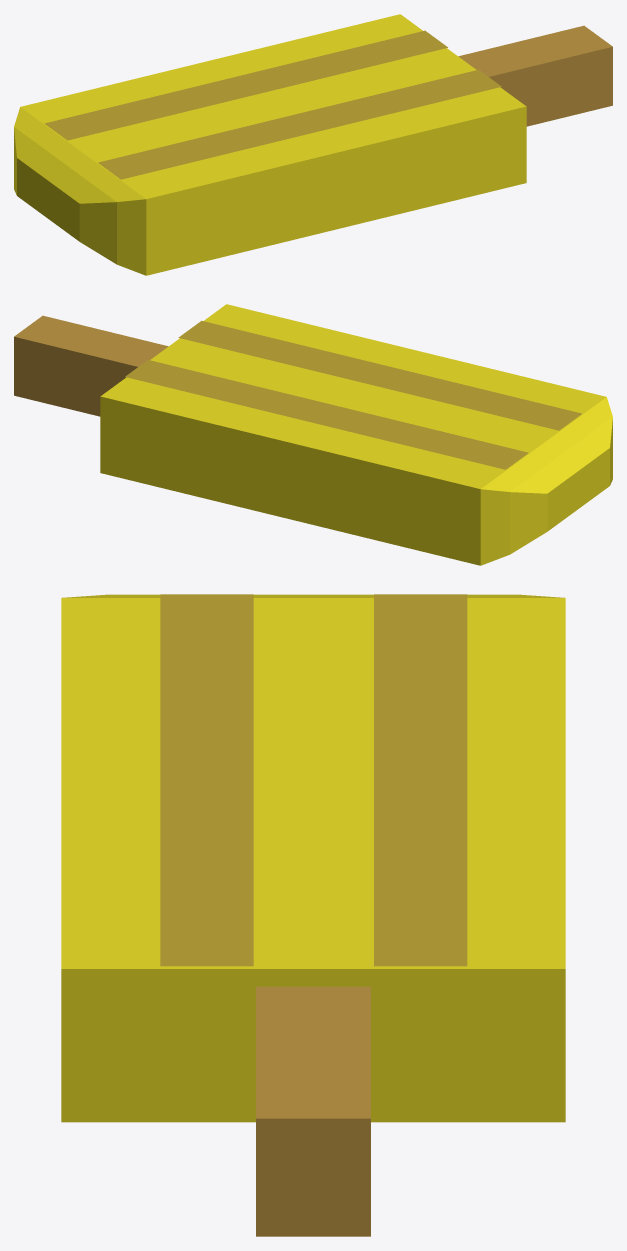
The model's file is Paleta_Hielo.fbx.
The picture shows the model from 3 angles, top to bottom: view 1: azimuth 30°, elevation 25°; view 2: azimuth 150°, elevation 25°; view 3: azimuth 270°, elevation 25°; orthographic projection. The views are drawn at different scales.
Visible parts, largest first — view 1: Cube, Cube.001, Plane.001, Plane.002; view 2: Cube, Cube.001, Plane.002, Plane.001; view 3: Cube, Plane.002, Plane.001, Cube.001.
Boxes of the visible parts, x1,y1,x2,y2 form: Cube: [14, 14, 526, 275]; Cube.001: [458, 25, 612, 126]; Plane.001: [44, 30, 447, 140]; Plane.002: [98, 69, 501, 179]; Cube: [100, 304, 612, 565]; Cube.001: [14, 315, 168, 416]; Plane.002: [178, 320, 581, 430]; Plane.001: [125, 360, 528, 469]; Cube: [61, 594, 565, 1122]; Plane.002: [160, 594, 253, 966]; Plane.001: [374, 594, 467, 966]; Cube.001: [256, 986, 370, 1236].
Bounding box in the file's own units: 721 × 97.88 × 286.
